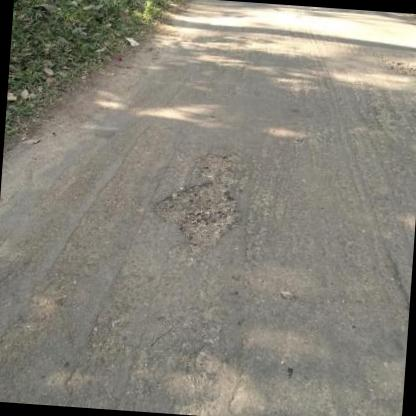pothole: (149, 148, 247, 254), (369, 50, 416, 81)
